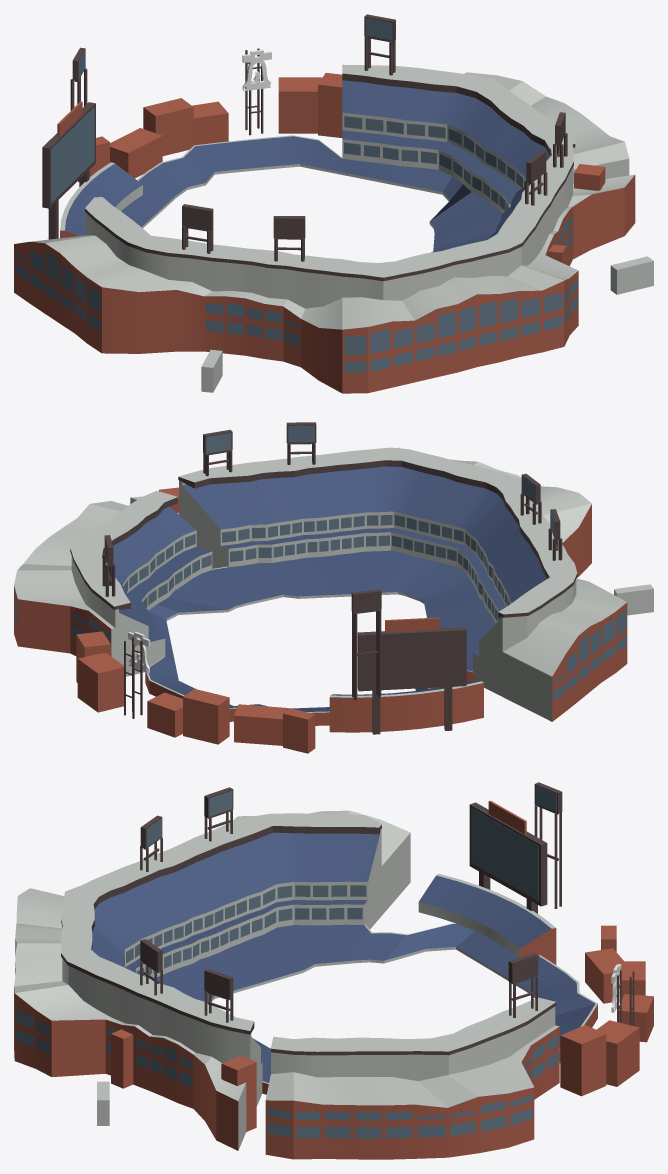
The model's file is phl-citizens-bank-park.glb.
The picture shows the model from 3 angles, top to bottom: view 1: azimuth 30°, elevation 25°; view 2: azimuth 150°, elevation 25°; view 3: azimuth 270°, elevation 25°; orthographic projection. The views are drawn at different scales.
Visible parts, largest first — view 1: Citizens Bank Park; view 2: Citizens Bank Park; view 3: Citizens Bank Park.
Boxes of the visible parts, x1,y1,x2,y2 form: Citizens Bank Park: (14,14,653,393); Citizens Bank Park: (14,422,653,753); Citizens Bank Park: (14,782,653,1159).
Bounding box in the file's own units: 263 × 71 × 256.
